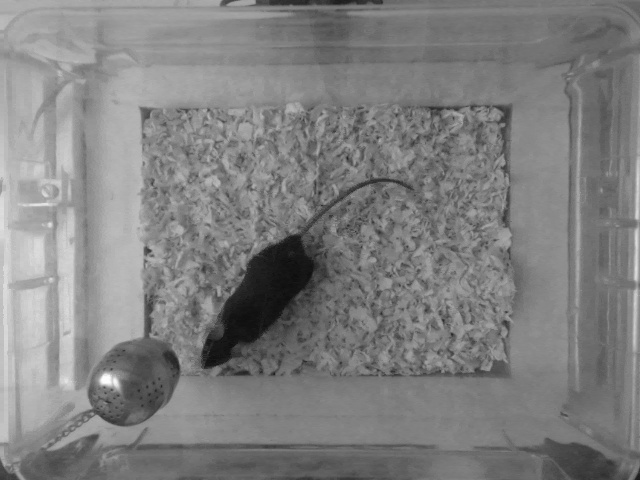mice: (198, 178, 415, 370)
